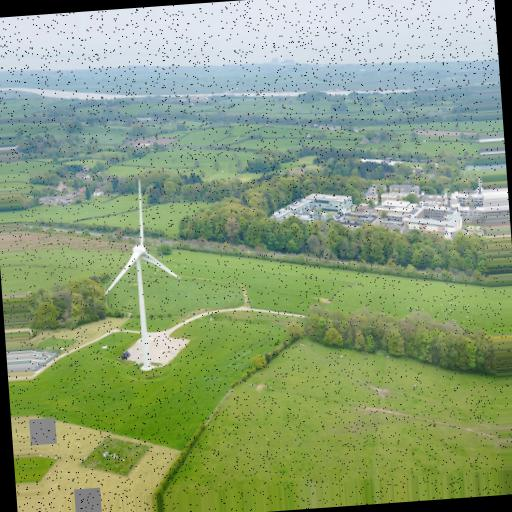wind turbine: (104, 179, 181, 341)
